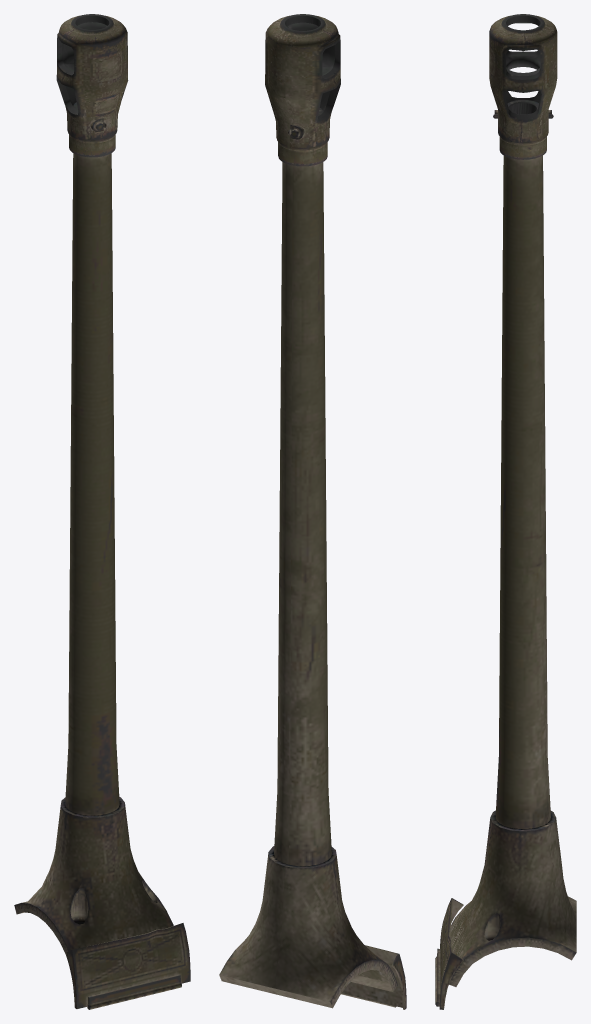
The model's file is Gun_06.glb.
3 renders of one model, left to right at view 1: azimuth 30°, elevation 25°; view 2: azimuth 150°, elevation 25°; view 3: azimuth 270°, elevation 25°, orthographic. The views are drawn at different scales.
Parts seen in each view (by area): view 1: set_0_group_0; view 2: set_0_group_0; view 3: set_0_group_0.
Part boxes in pixels (box(x1,y1,x2,y2)): set_0_group_0: box(14, 14, 190, 1009); set_0_group_0: box(219, 14, 406, 1009); set_0_group_0: box(435, 14, 576, 1009).
Bounding box in the file's own units: 0.592 × 4.7 × 0.6267.
Materials: 1 (1 with a texture image).
